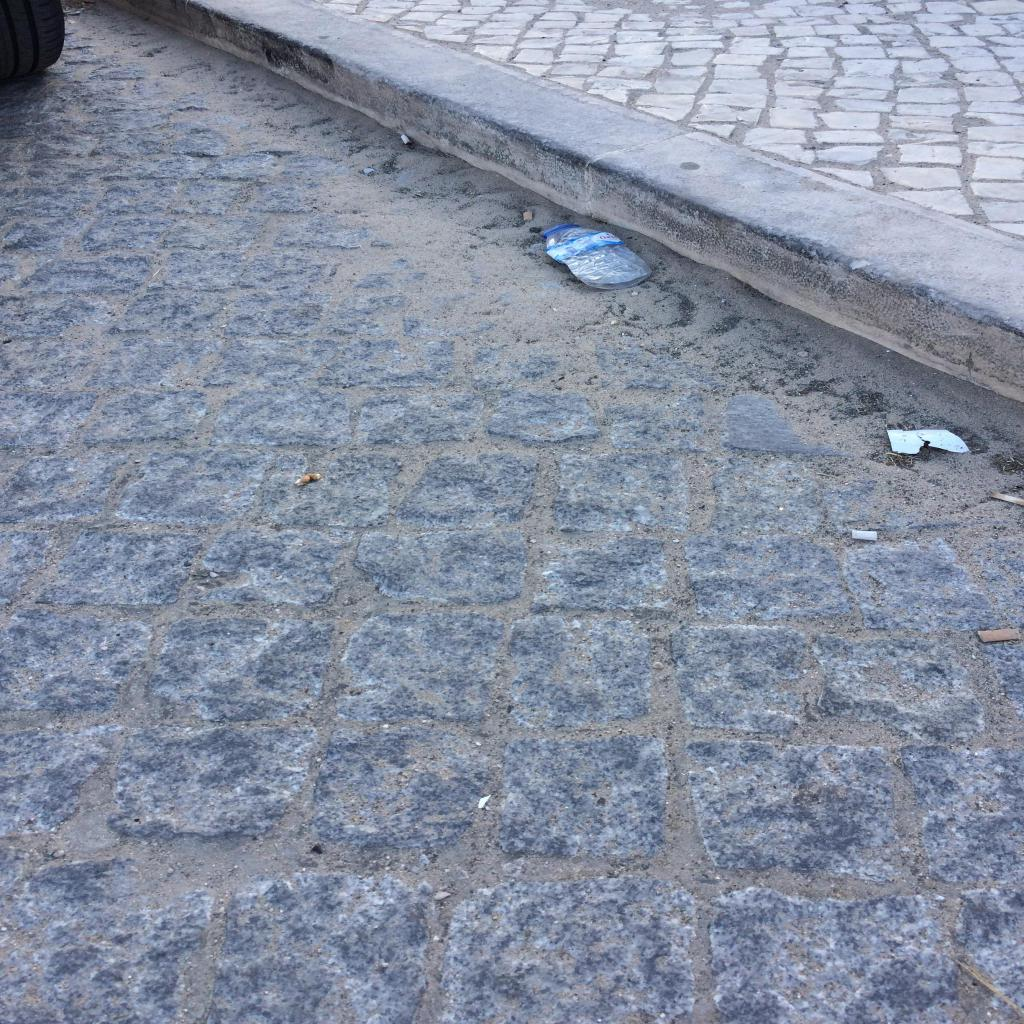Cigarette: (977, 628, 1020, 642), (852, 530, 877, 541), (401, 134, 412, 146), (524, 210, 533, 220)
Clear plastic bottle: (544, 223, 652, 289)
Other plastic wrapper: (887, 430, 969, 452)
